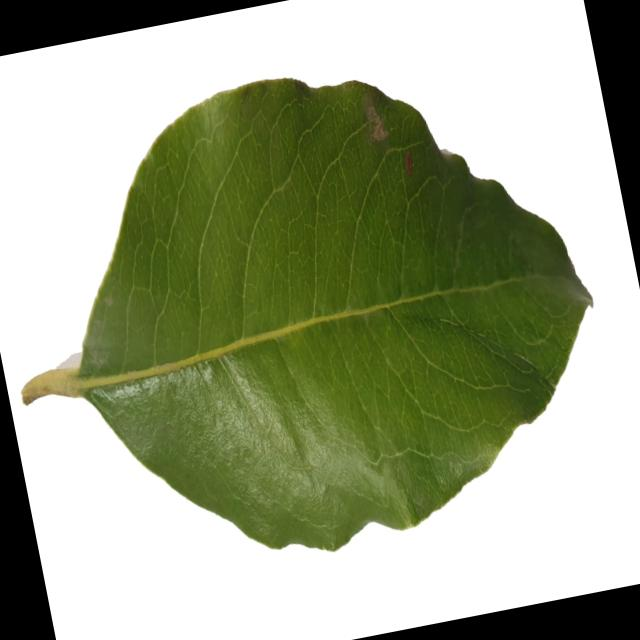Medicinal-Sandalwood: (0, 26, 631, 604)
